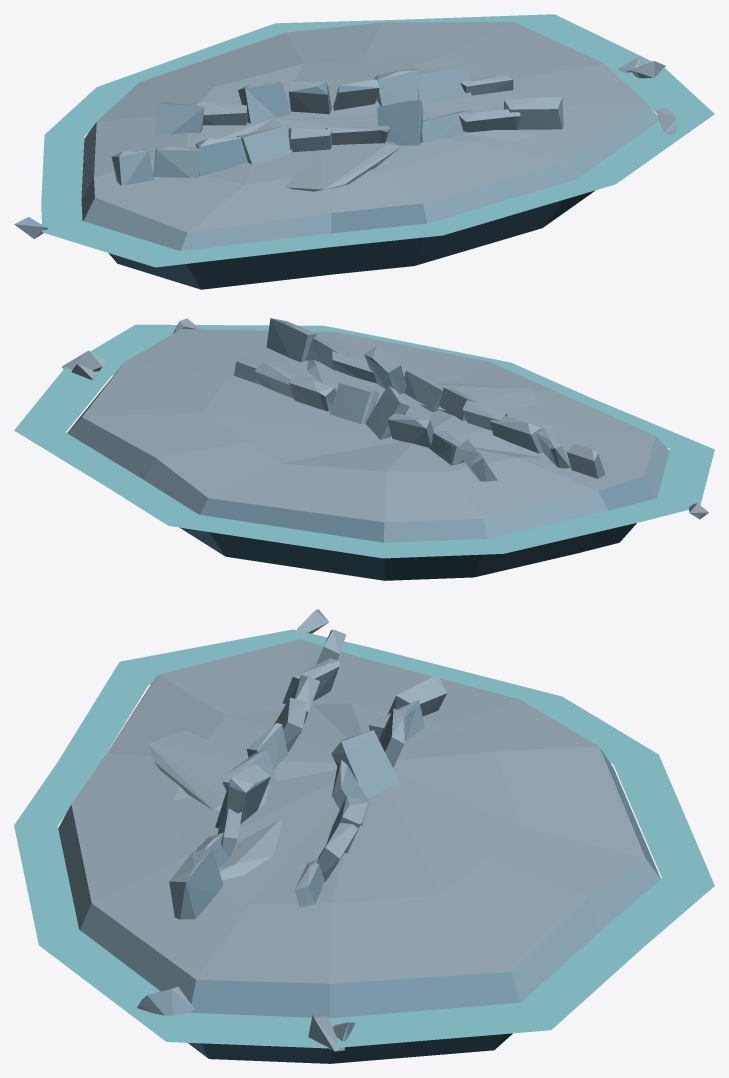
File: floe_b.glb
3 views of the same model, one above another, from view 1: azimuth 30°, elevation 25°; view 2: azimuth 150°, elevation 25°; view 3: azimuth 270°, elevation 25° (orthographic). The views are drawn at different scales.
Parts seen in each view (by area): view 1: floe_b; view 2: floe_b; view 3: floe_b.
Boxes of the visible parts, x1,y1,x2,y2 form: floe_b: [14, 14, 714, 289]; floe_b: [14, 318, 714, 580]; floe_b: [14, 609, 714, 1063].
Bounding box in the file's own units: 9.46 × 1.61 × 6.46.
